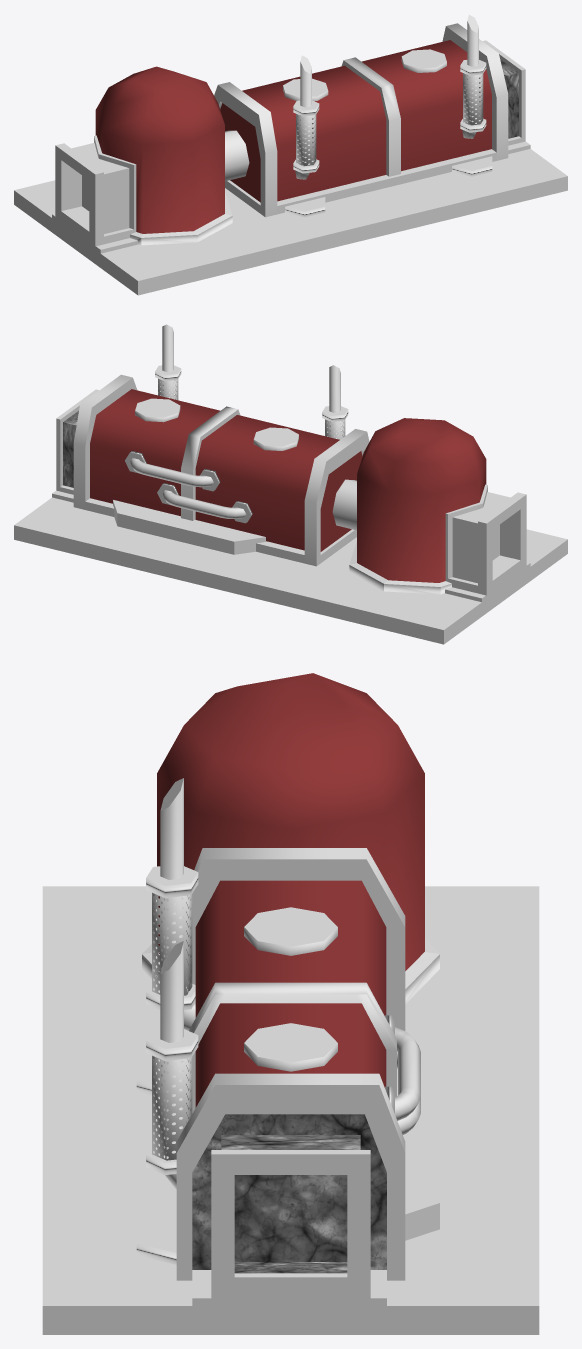
Rendered from Machine52.fbx.
3 views of the same model, one above another, from view 1: azimuth 30°, elevation 25°; view 2: azimuth 150°, elevation 25°; view 3: azimuth 270°, elevation 25° (orthographic). The views are drawn at different scales.
Visible parts, largest first — view 1: Cube, InputTank, ProcessorBody.001, ProcessorBody.002, InputTerminator, InputPipe, Rim.001, RimBottom.001, Rim.006, Rim.002, Rim.004, RimTank (+14 smaller); view 2: Cube, InputTank, ProcessorBody.001, ProcessorBody.002, RimBottom.005, InputTerminator, InputPipe, Rim.001, Rim.006, Rim.004, Rim.002, RimTank (+13 smaller); view 3: Cube, InputTank, ProcessorBody.001, Rim.006, OutputPipe, OutputTerminator, Rim.001, ProcessorBody.002, Rim.005, Rim.002, RimBottom.005, ProcessorDome.002 (+12 smaller).
Part boxes in pixels (left/top/right/bottom): Cube: left=14, top=149, right=567, bottom=295; InputTank: left=95, top=66, right=224, bottom=233; ProcessorBody.001: left=242, top=65, right=386, bottom=201; ProcessorBody.002: left=362, top=40, right=491, bottom=171; InputTerminator: left=55, top=143, right=103, bottom=246; InputPipe: left=70, top=143, right=129, bottom=233; Rim.001: left=214, top=82, right=277, bottom=217; RimBottom.001: left=277, top=149, right=496, bottom=214; Rim.006: left=442, top=23, right=508, bottom=160; Rim.002: left=341, top=57, right=400, bottom=176; Rim.004: left=220, top=103, right=260, bottom=202; RimTank: left=130, top=192, right=232, bottom=245; Cube: left=14, top=497, right=567, bottom=644; InputTank: left=357, top=418, right=486, bottom=582; ProcessorBody.001: left=195, top=415, right=339, bottom=550; ProcessorBody.002: left=90, top=389, right=220, bottom=516; RimBottom.005: left=113, top=500, right=265, bottom=554; InputTerminator: left=478, top=492, right=526, bottom=595; InputPipe: left=452, top=492, right=511, bottom=583; Rim.001: left=304, top=429, right=369, bottom=566; Rim.006: left=73, top=374, right=137, bottom=509; Rim.004: left=320, top=451, right=362, bottom=551; Rim.002: left=181, top=406, right=240, bottom=520; RimTank: left=349, top=541, right=451, bottom=594; Cube: left=42, top=886, right=539, bottom=1334; InputTank: left=157, top=673, right=424, bottom=970; ProcessorBody.001: left=195, top=880, right=386, bottom=1017; Rim.006: left=176, top=1073, right=405, bottom=1280; OutputPipe: left=221, top=1135, right=360, bottom=1273; OutputTerminator: left=211, top=1150, right=370, bottom=1298; Rim.001: left=189, top=848, right=405, bottom=1030; ProcessorBody.002: left=195, top=1003, right=386, bottom=1107; Rim.005: left=192, top=1114, right=386, bottom=1269; Rim.002: left=188, top=982, right=396, bottom=1116; RimBottom.005: left=397, top=1073, right=439, bottom=1240; ProcessorDome.002: left=244, top=1023, right=337, bottom=1071.
Size of the model in its own units: 801 by 295 by 400.
